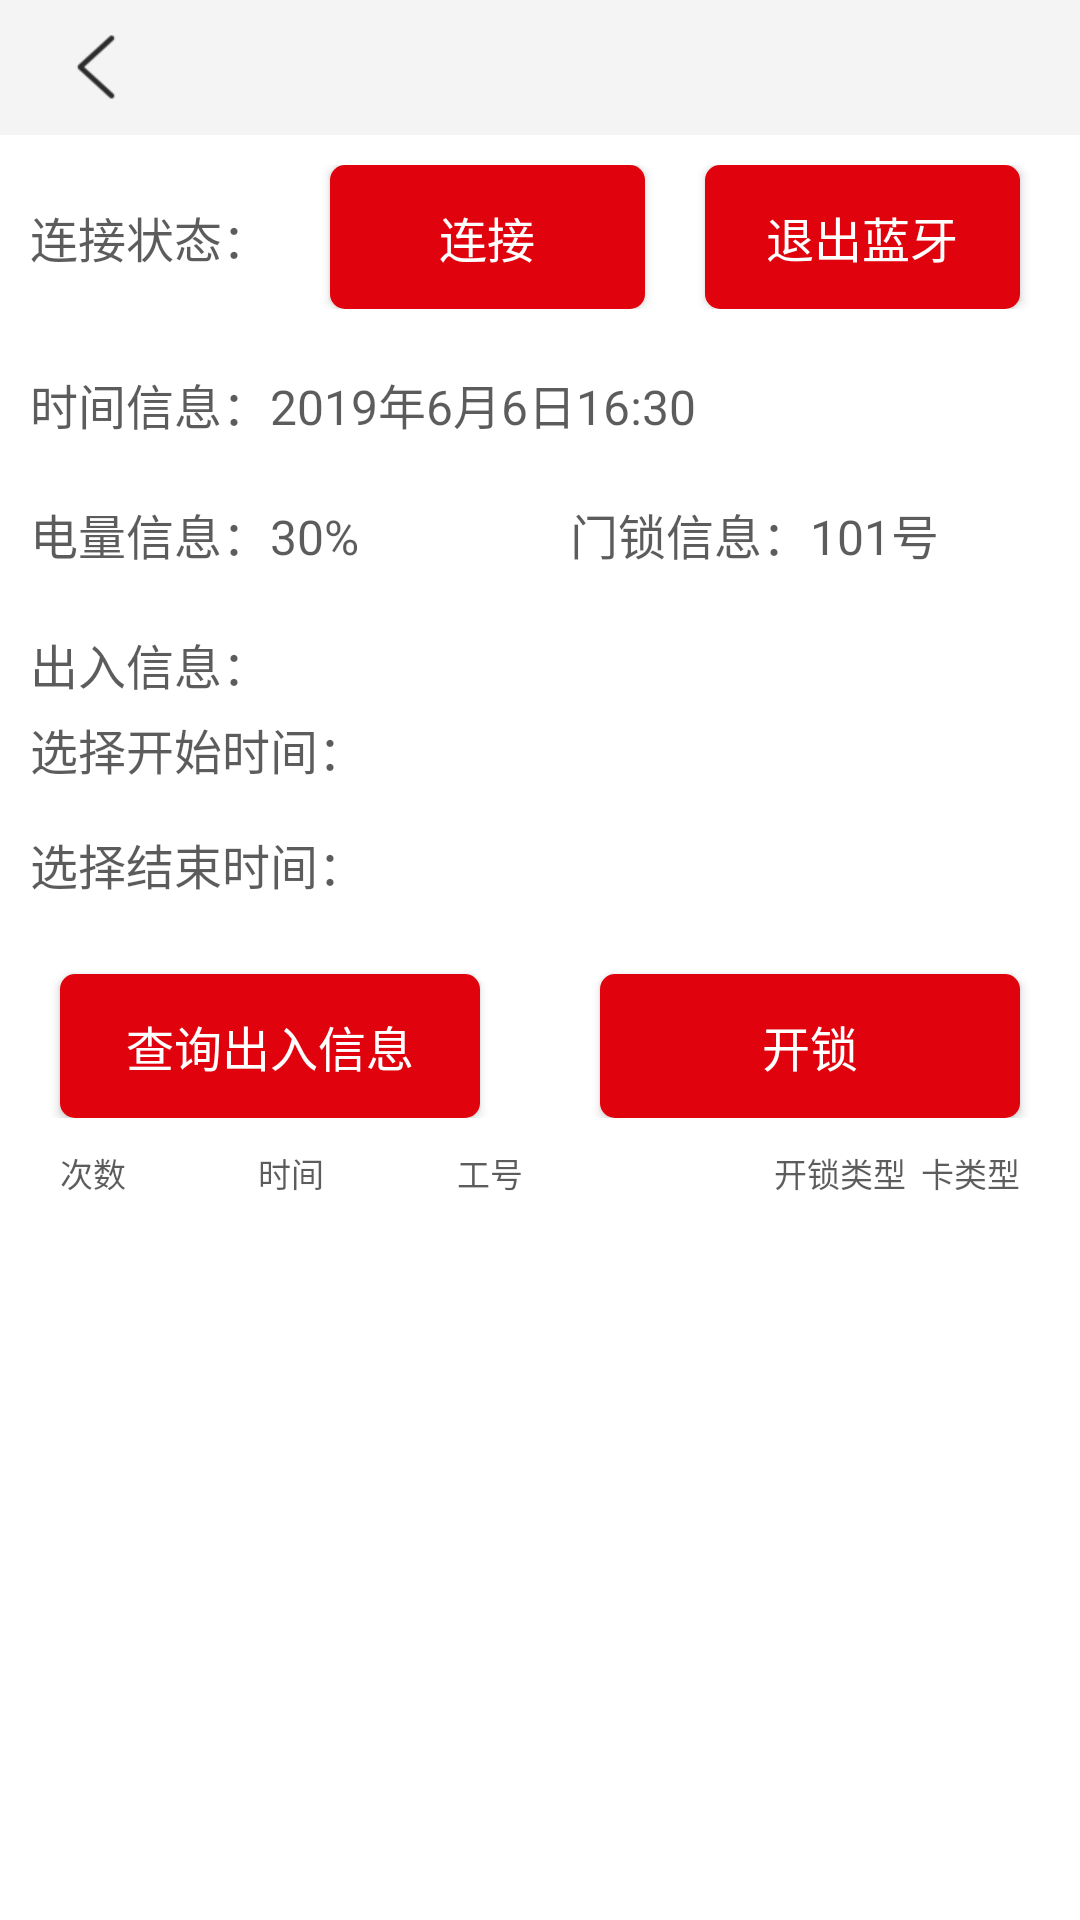

Icon bounding boxes for this 1080px x 1920px phone screenshot, format region(x1, y1, x2, y2):
back: region(77, 35, 115, 99)
